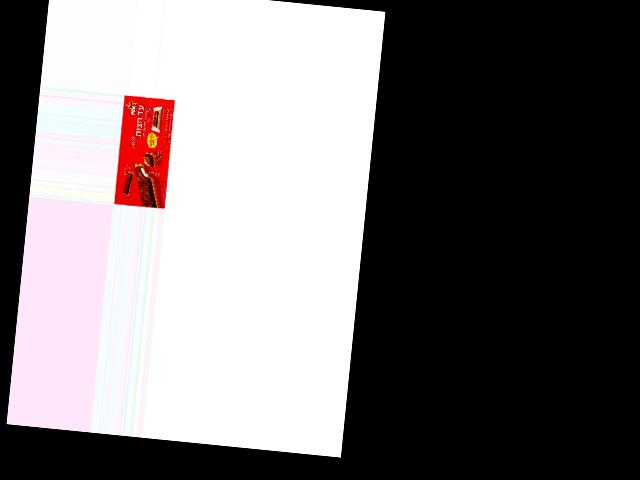chocolate: (113, 93, 175, 209)
